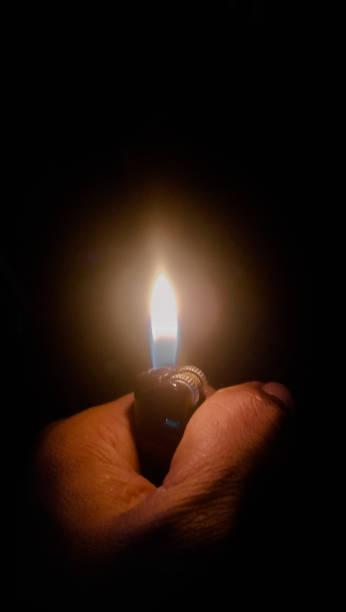Fire: (138, 255, 182, 368)
